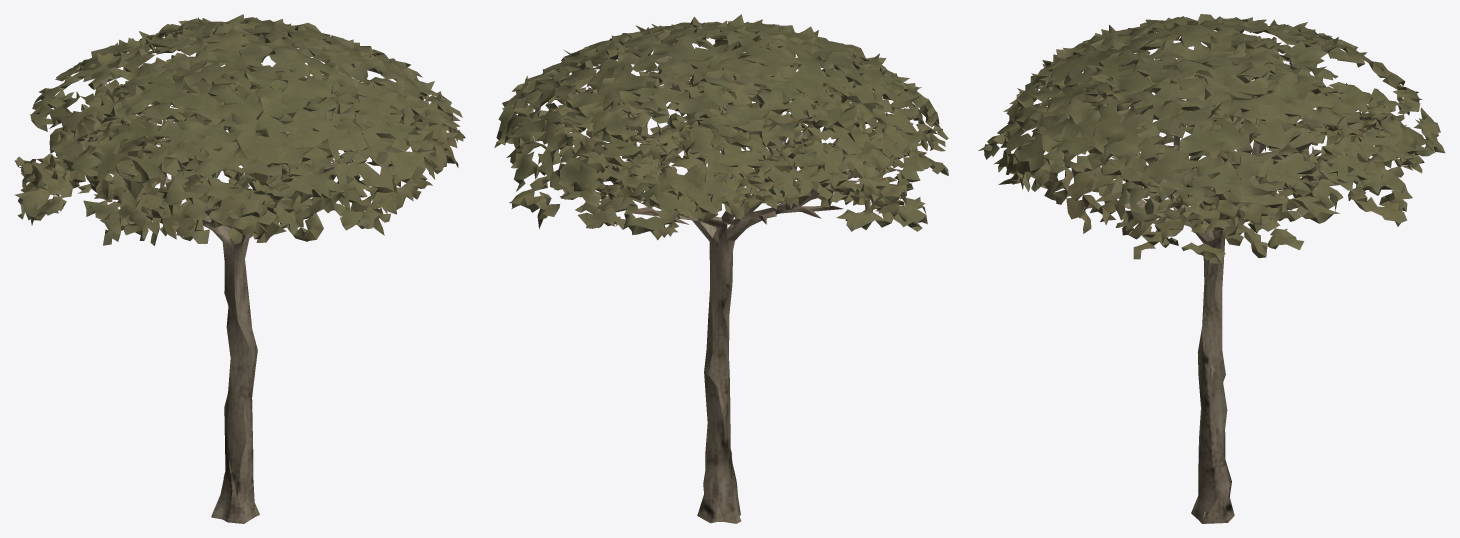
The picture shows the model from 3 angles, left to right: view 1: azimuth 30°, elevation 25°; view 2: azimuth 150°, elevation 25°; view 3: azimuth 270°, elevation 25°; orthographic projection.
Parts seen in each view (by area): view 1: world; view 2: world; view 3: world.
Boxes of the visible parts, x1,y1,x2,y2 form: world: [14, 14, 465, 523]; world: [494, 14, 948, 523]; world: [978, 14, 1445, 523].
Size of the model in its own units: 0.9271 by 1 by 0.9037.
Materials: 1 (1 with a texture image).
